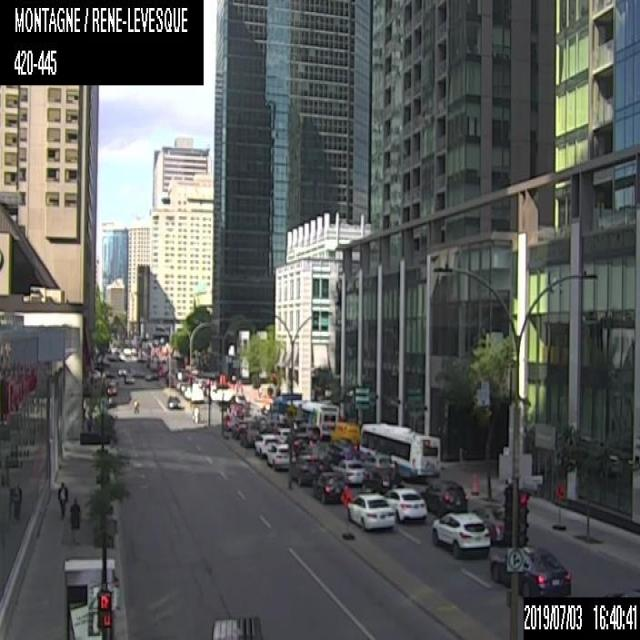bus: (358, 422, 441, 481), (271, 394, 337, 439)
construction: (341, 486, 354, 534), (554, 476, 566, 525)
pedestrian: (56, 480, 68, 514), (70, 496, 81, 531), (84, 410, 92, 430), (132, 398, 139, 414)
vehicle: (490, 541, 572, 596), (430, 507, 491, 558), (347, 490, 396, 529), (420, 481, 467, 517), (382, 487, 426, 523), (209, 613, 263, 639), (290, 453, 326, 486), (312, 470, 347, 503), (476, 505, 504, 541), (329, 420, 360, 448), (332, 458, 364, 485), (253, 432, 280, 459), (266, 443, 293, 469), (240, 422, 262, 445), (104, 376, 116, 396), (166, 394, 180, 407), (123, 373, 135, 382), (117, 367, 127, 375), (190, 369, 191, 371)
